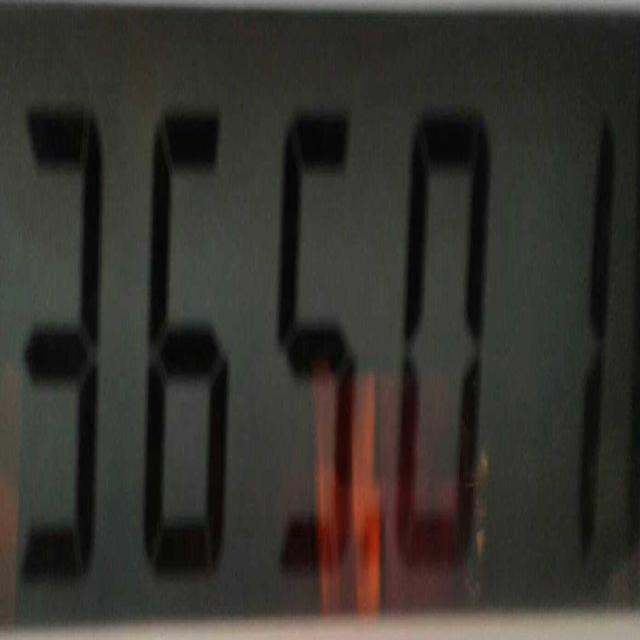.: (360, 497, 388, 591)
0: (391, 94, 496, 591)
1: (571, 92, 623, 591)
3: (17, 72, 108, 618)
5: (266, 70, 364, 597)
6: (124, 72, 245, 612)
